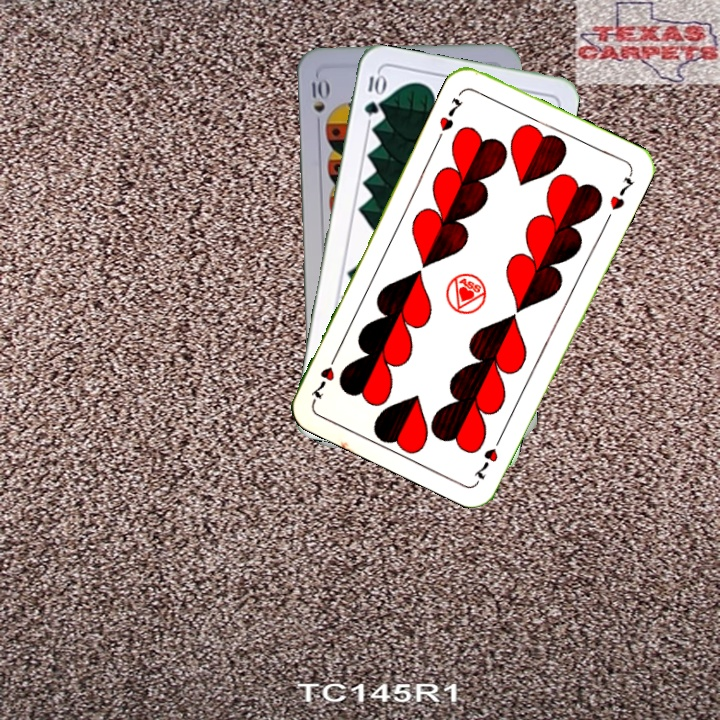G10: (360, 69, 386, 118)
H7: (469, 429, 506, 482), (435, 93, 466, 134)
S10: (306, 72, 330, 131)
